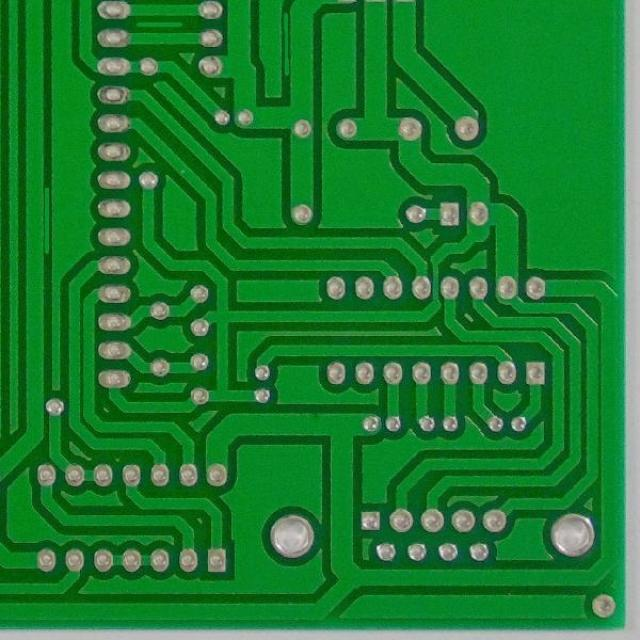Spurious_Cooper: (132, 18, 186, 31), (281, 10, 291, 78), (43, 185, 52, 259)
